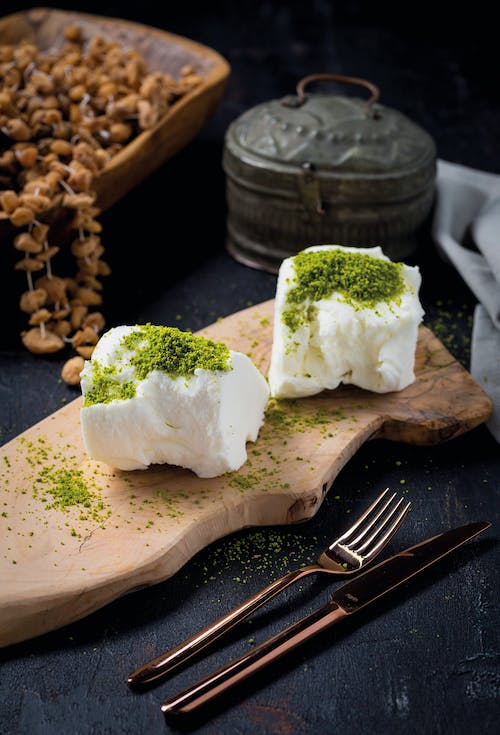knife: (157, 515, 494, 727)
